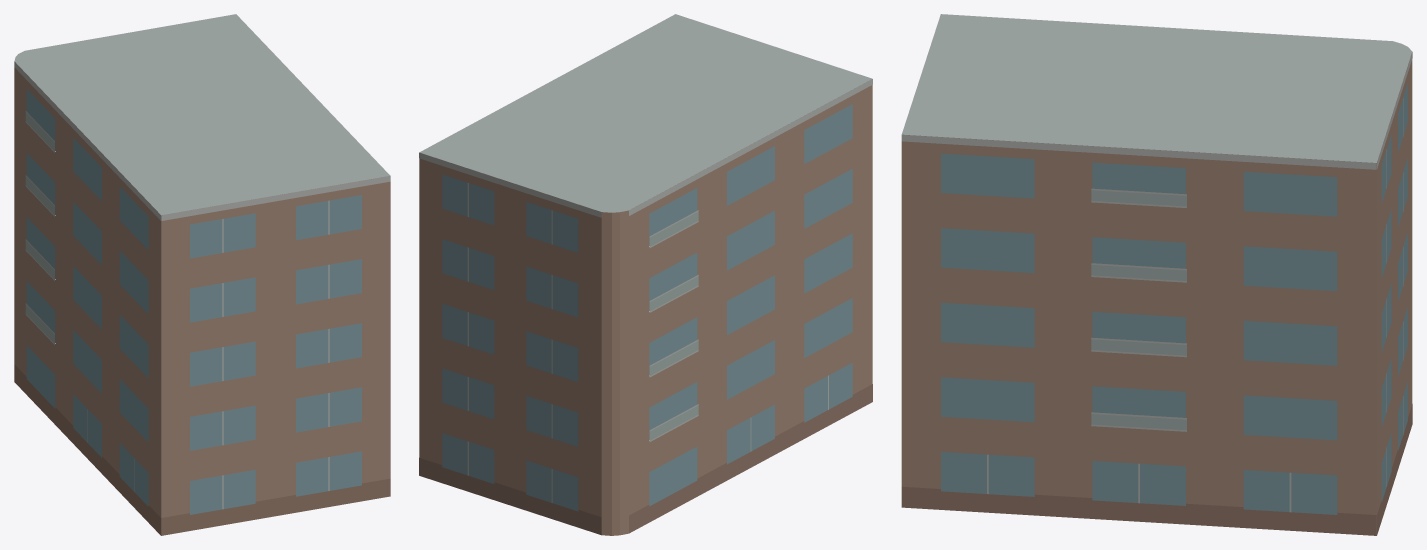
Rendered from survey-upis-32502947.glb.
The picture shows the model from 3 angles, left to right: view 1: azimuth 30°, elevation 25°; view 2: azimuth 150°, elevation 25°; view 3: azimuth 270°, elevation 25°; orthographic projection. The views are drawn at different scales.
Visible parts, largest first — view 1: survey-upis-32502947.tmp; view 2: survey-upis-32502947.tmp; view 3: survey-upis-32502947.tmp.
Boxes of the visible parts, bbox=[...] form: survey-upis-32502947.tmp: bbox=[14, 14, 390, 535]; survey-upis-32502947.tmp: bbox=[419, 14, 872, 535]; survey-upis-32502947.tmp: bbox=[901, 14, 1412, 535].
Bounding box in the file's own units: 11.49 × 13.4 × 16.65.
